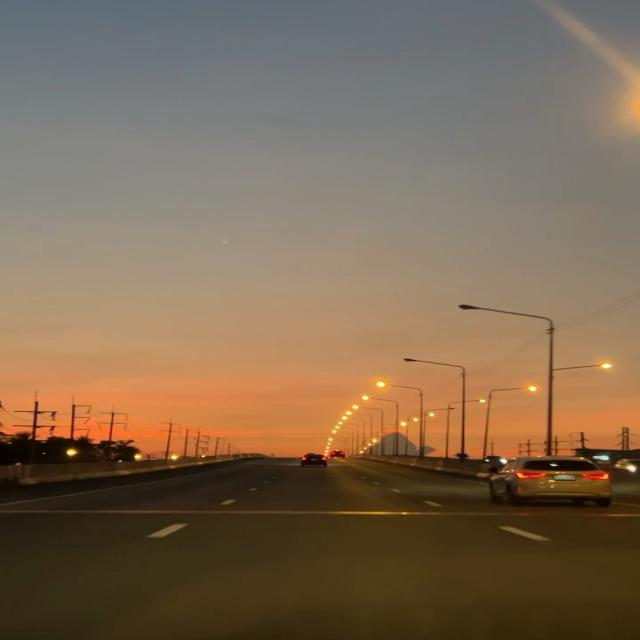Poth-hole: (163, 478, 518, 591)
